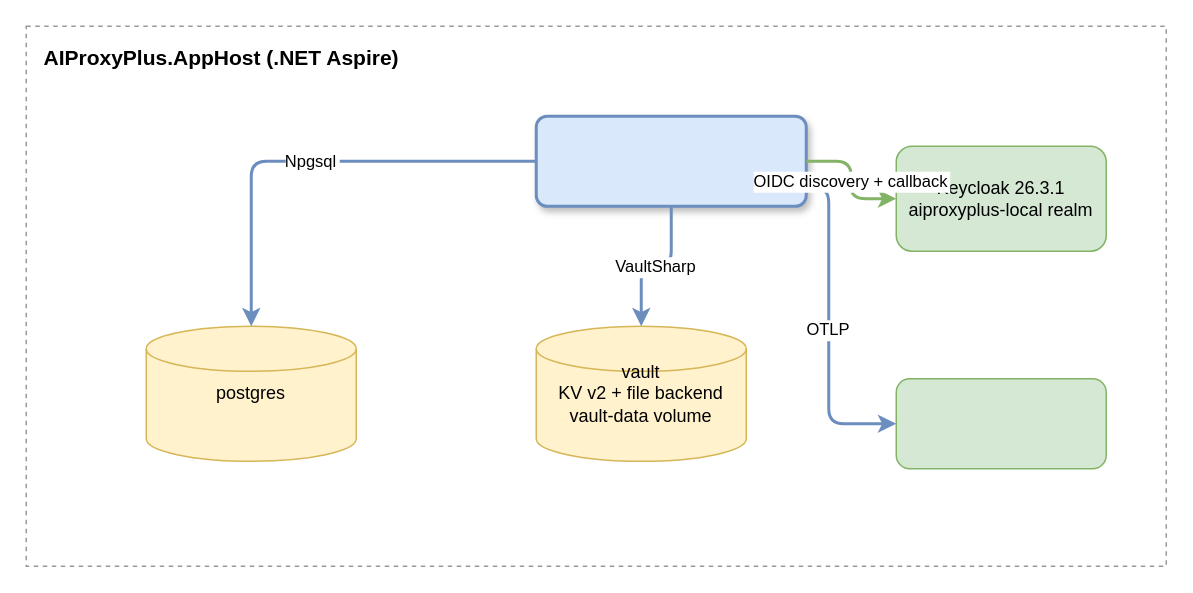
The diagram is 1193 pixels wide and 593 high, and some of its shapes have lost their labels. Each missing label, with the centre of its shape:
"api" goes at [672,163].
"Aspire Dashboard" goes at [1000,423].
